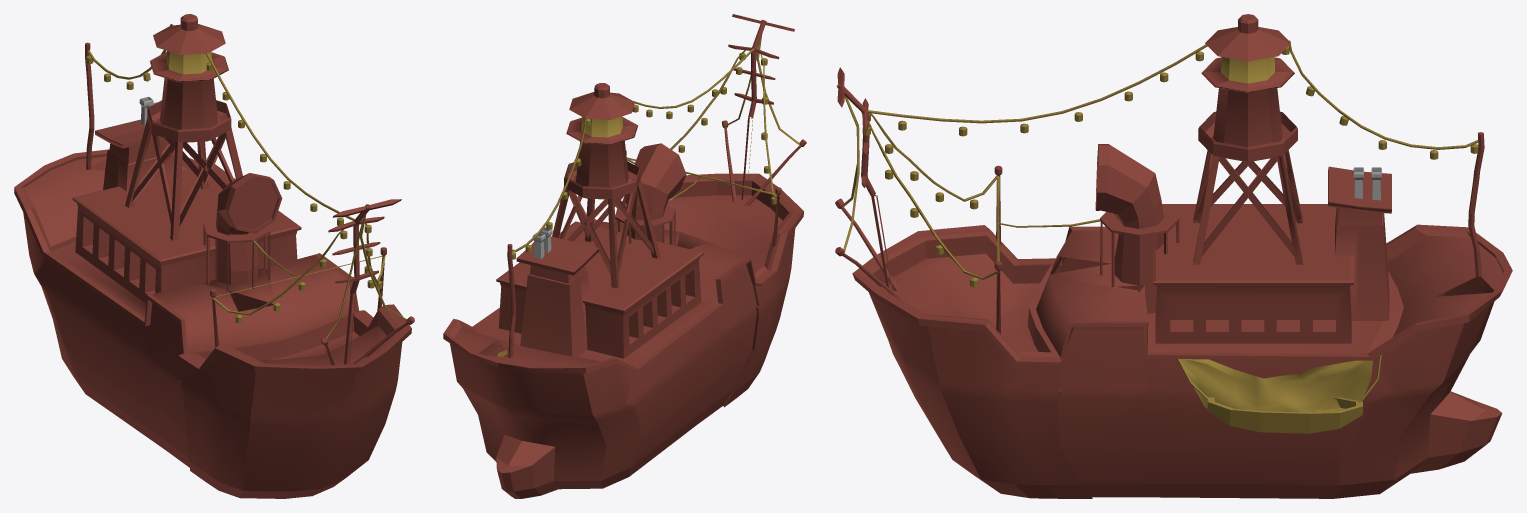
Rendered from LghtBoat01.fbx.
3 views of the same model, side by side, from view 1: azimuth 30°, elevation 25°; view 2: azimuth 150°, elevation 25°; view 3: azimuth 270°, elevation 25° (orthographic). The views are drawn at different scales.
Parts seen in each view (by area): view 1: polySurface29; view 2: polySurface29; view 3: polySurface29.
Part boxes in pixels (<box>): polySurface29: <box>14,14,414,498</box>; polySurface29: <box>443,14,806,498</box>; polySurface29: <box>835,14,1512,498</box>.
Bounding box in the file's own units: 4.58 × 8.15 × 11.23.
